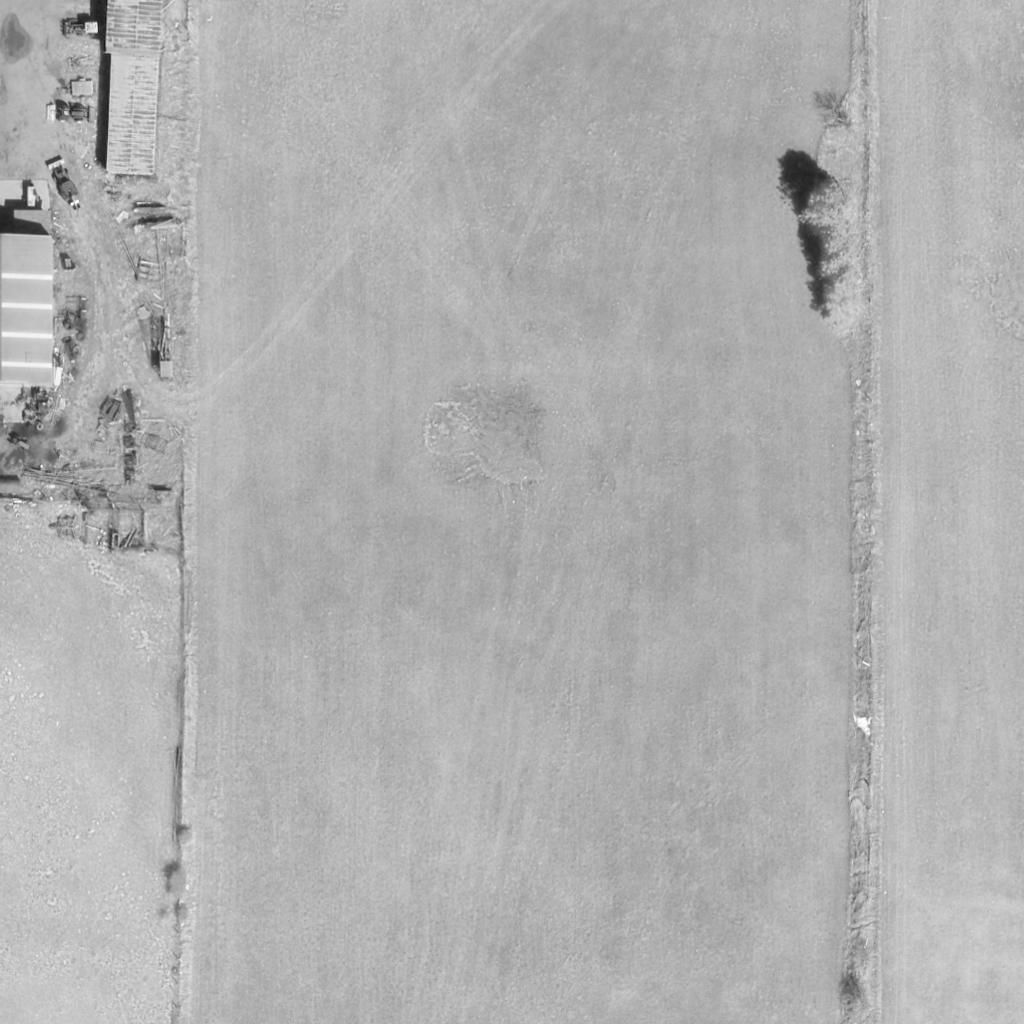vehicle: (46, 160, 86, 212), (56, 101, 98, 127), (65, 20, 97, 38)
